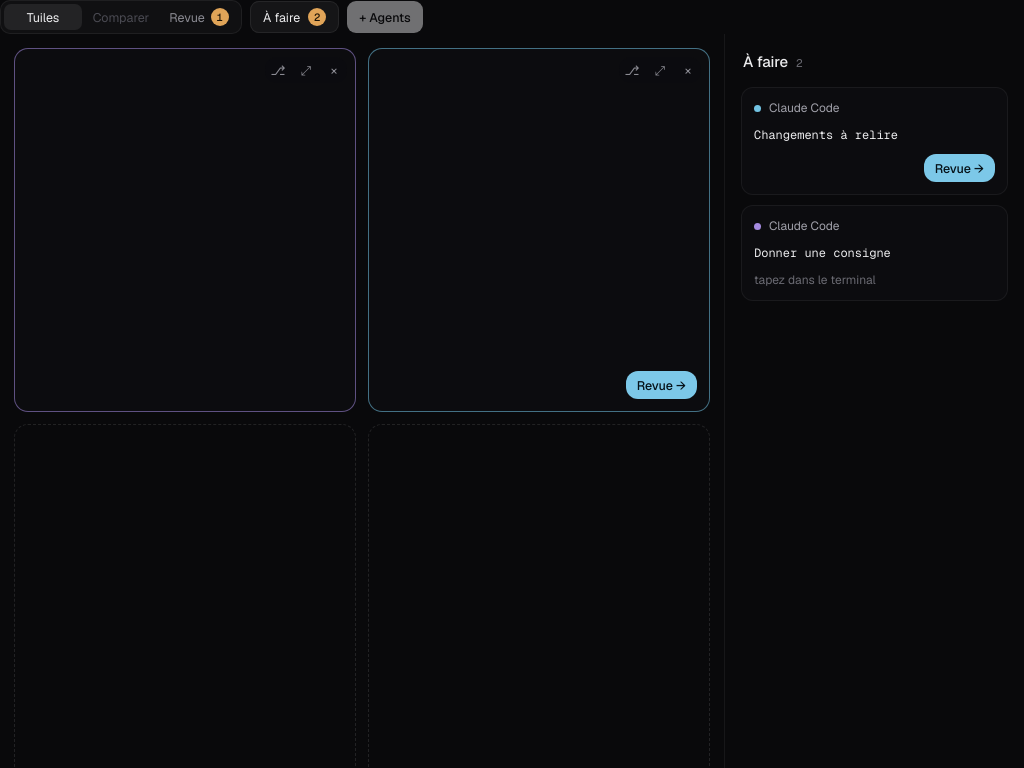
it: Review (002 T018, US1) › counts the files left to see in the Décision column
Click the 2nd button "Revue →": (661, 385) [626,371,697,399]
(page scrolled)
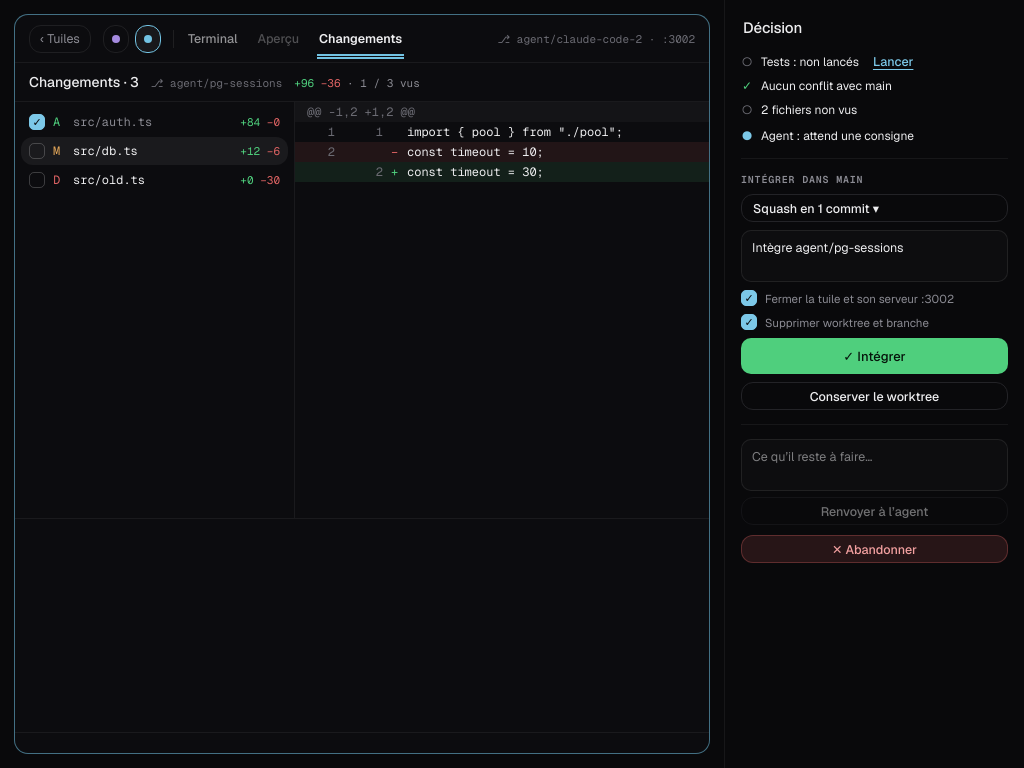
Check: the element "Décision" shows "2 fichiers non vus", box [724,0,1023,767]
